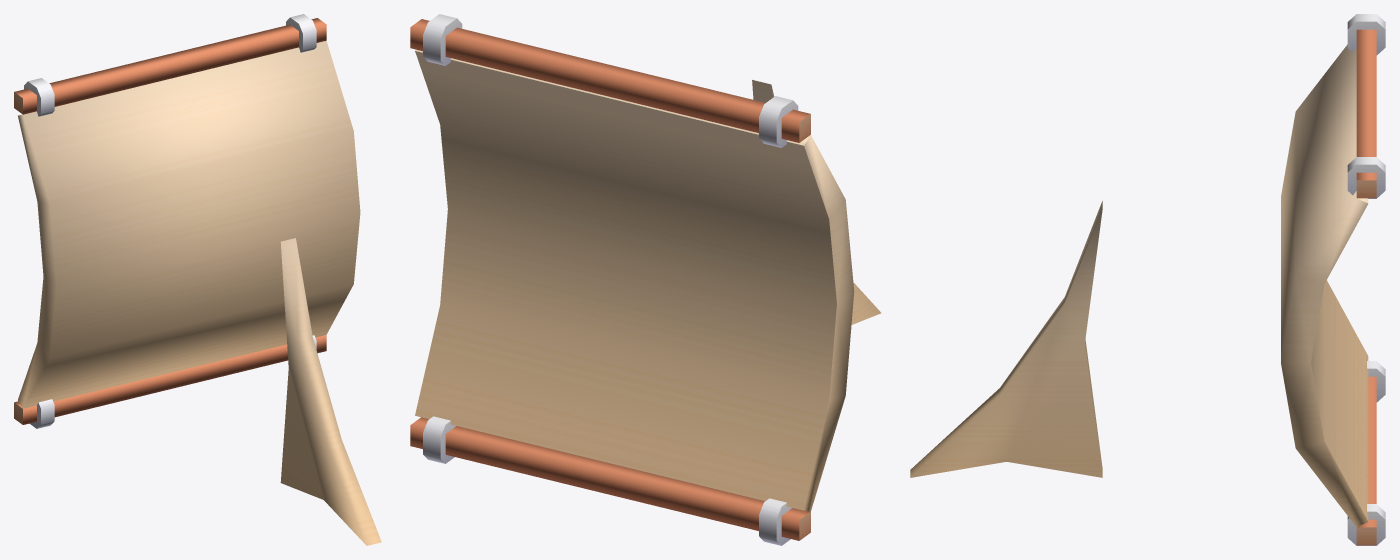
Rendered from sail_beige.glb.
The picture shows the model from 3 angles, left to right: view 1: azimuth 30°, elevation 25°; view 2: azimuth 150°, elevation 25°; view 3: azimuth 270°, elevation 25°; orthographic projection. The views are drawn at different scales.
Visible parts, largest first — view 1: sail-a_beige; view 2: sail-a_beige; view 3: sail-a_beige.
Boxes of the visible parts, x1,y1,x2,y2 form: sail-a_beige: (14, 14, 381, 545); sail-a_beige: (410, 14, 881, 545); sail-a_beige: (910, 14, 1385, 545).
Bounding box in the file's own units: 4.4 × 4.76 × 5.33.
1 material, 1 textured.
